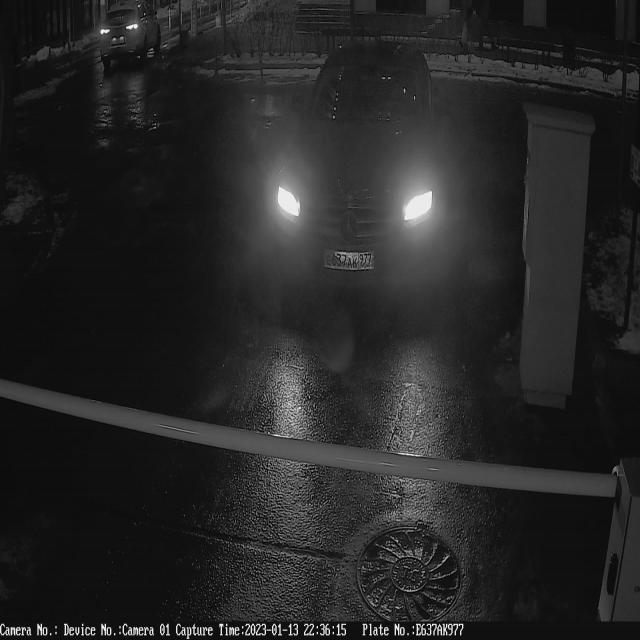car-plate-numbers: (322, 245, 379, 278)
